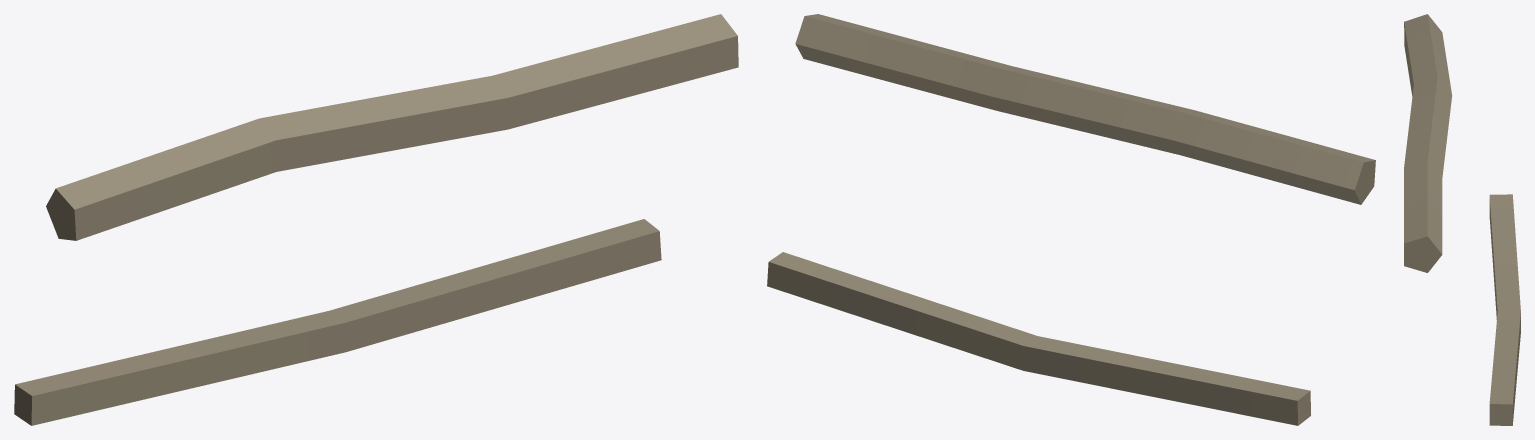
The model's file is BuckFenceRails.fbx.
3 views of the same model, side by side, from view 1: azimuth 30°, elevation 25°; view 2: azimuth 150°, elevation 25°; view 3: azimuth 270°, elevation 25° (orthographic). The views are drawn at different scales.
Visible parts, largest first — view 1: BuckFenceRails; view 2: BuckFenceRails; view 3: BuckFenceRails.
Part boxes in pixels (x1,y1,x2,y2): BuckFenceRails: (14,14,738,425); BuckFenceRails: (767,14,1375,425); BuckFenceRails: (1404,14,1520,425).
Bounding box in the file's own units: 1.16 × 0.4944 × 0.2487.
